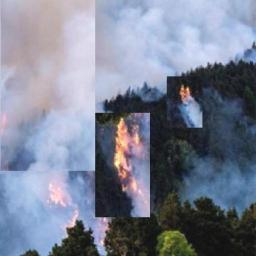Heavy smoke: (0, 0, 95, 255), (91, 0, 256, 106)
Large fire: (95, 113, 149, 214)
